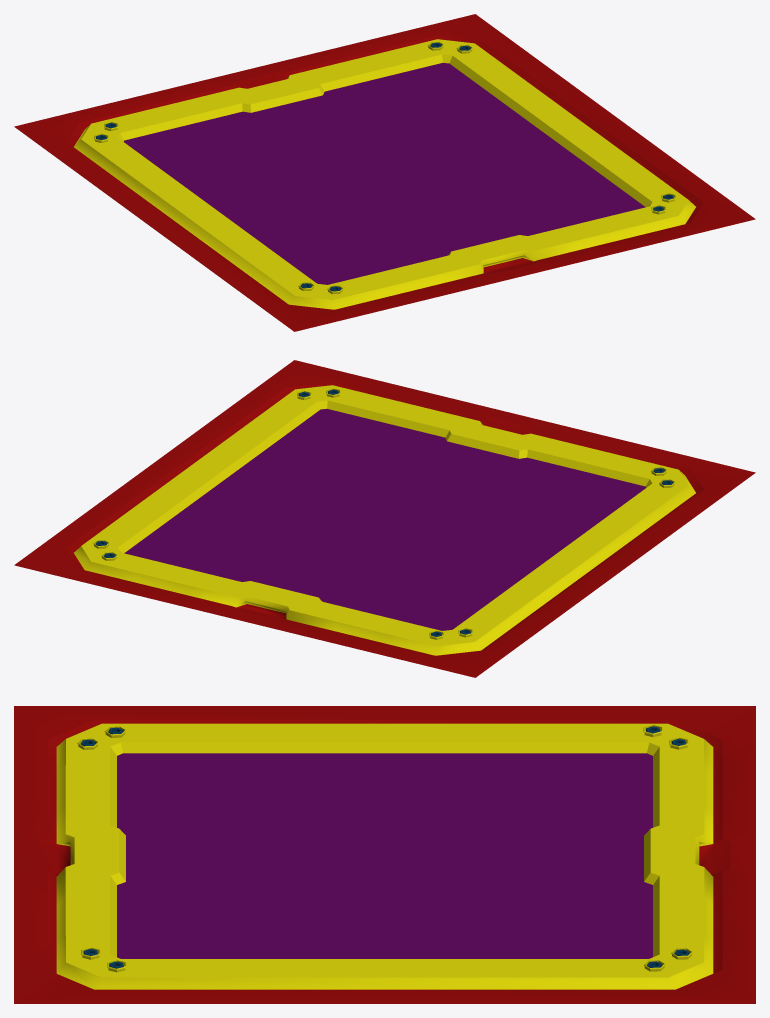
Rendered from Pannel_Glass_Hi.FBX.
3 views of the same model, one above another, from view 1: azimuth 30°, elevation 25°; view 2: azimuth 150°, elevation 25°; view 3: azimuth 270°, elevation 25° (orthographic). The views are drawn at different scales.
Parts seen in each view (by area): view 1: Pannel_Glass_High; view 2: Pannel_Glass_High; view 3: Pannel_Glass_High.
Part boxes in pixels (x1,y1,x2,y2): Pannel_Glass_High: (14, 14, 755, 331); Pannel_Glass_High: (14, 360, 755, 677); Pannel_Glass_High: (14, 706, 755, 1003).
Bounding box in the file's own units: 380 × 8.11 × 400.
